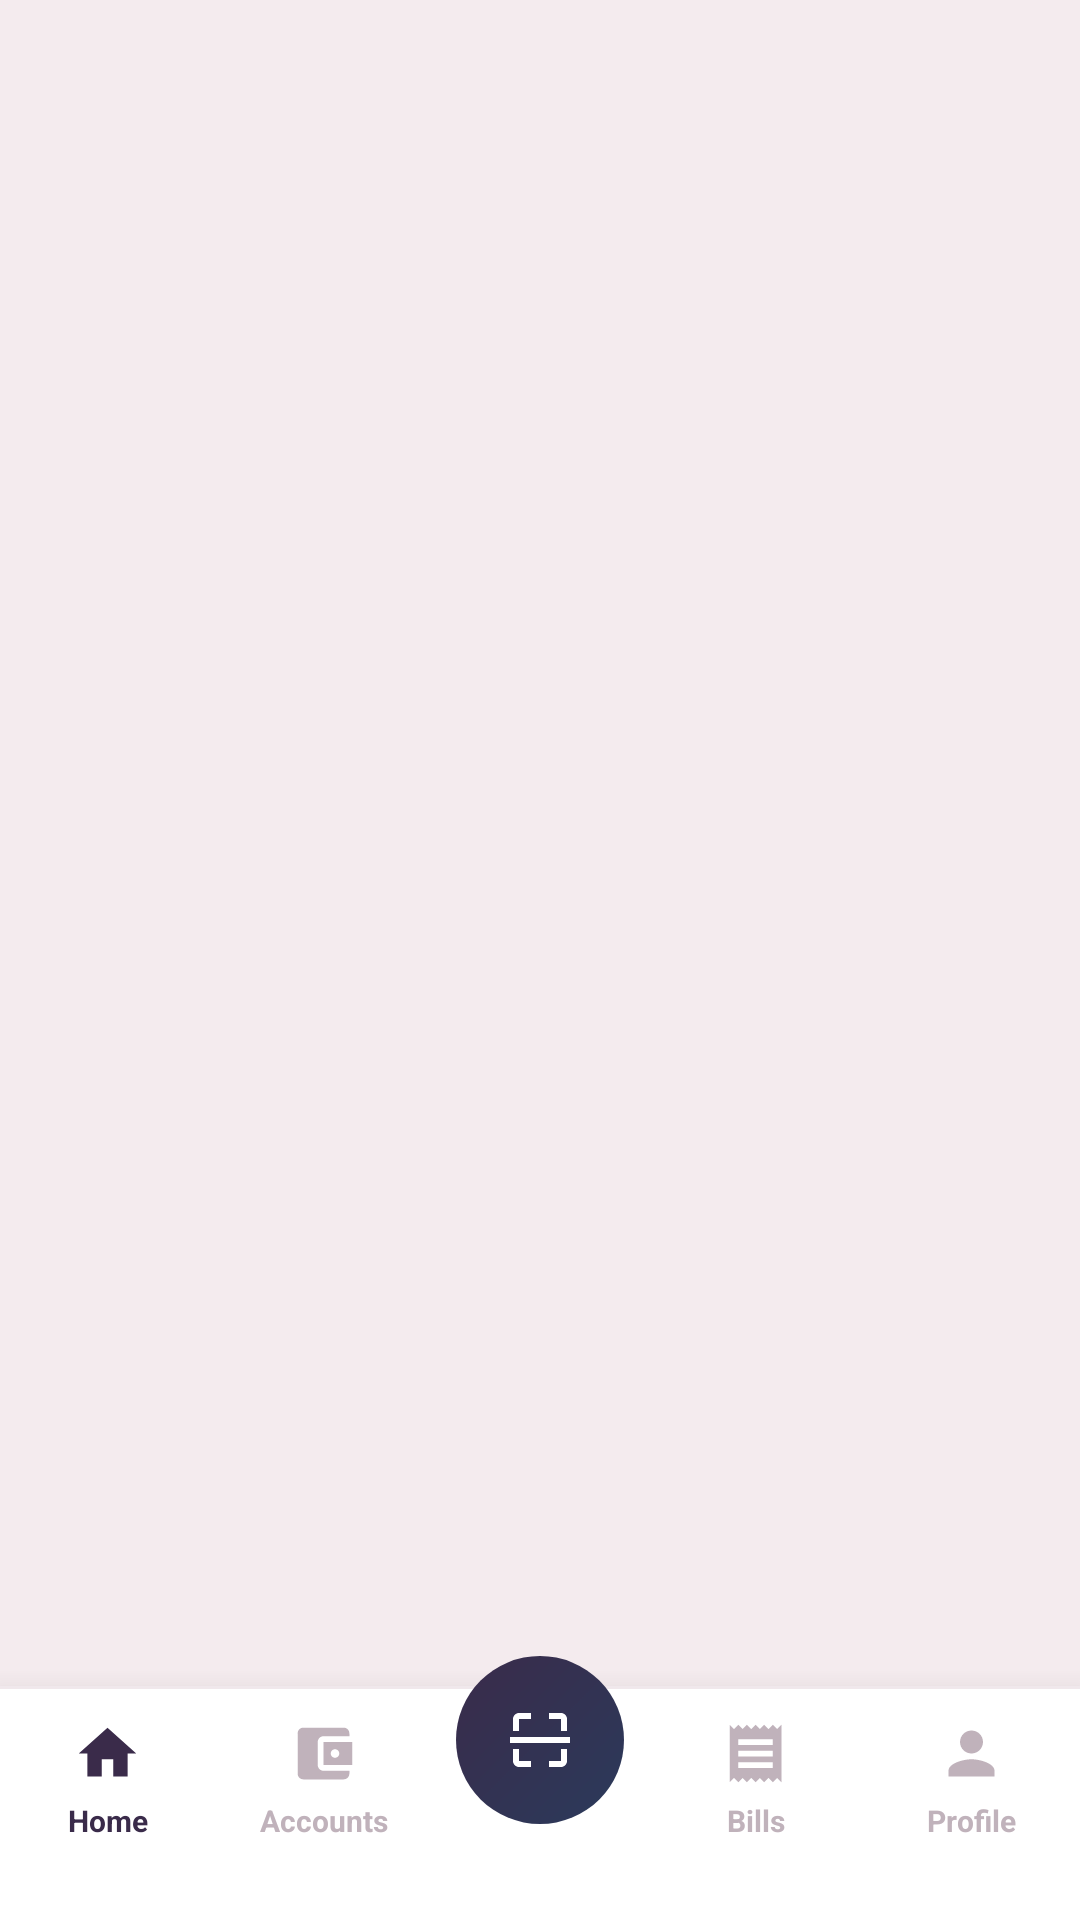

Icon bounding boxes for this 1080x1920 phone screenshot, format (x1, y1, x2, y2):
Scan: (456, 1656, 624, 1824)
